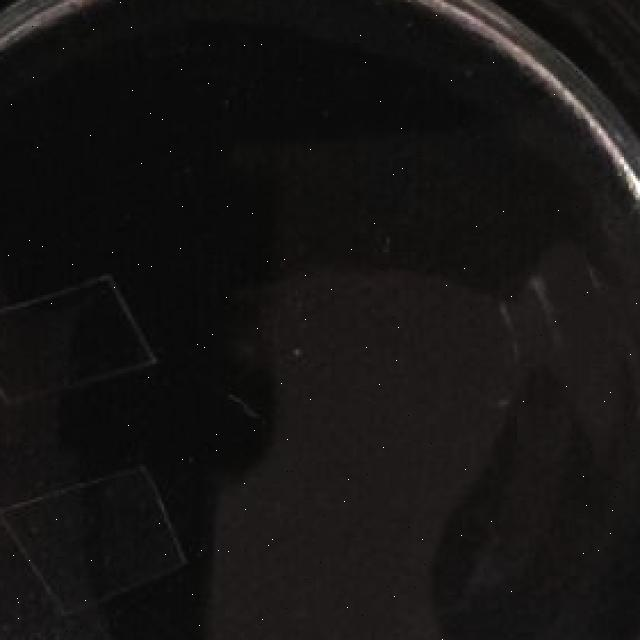Microplastic: (0, 456, 191, 618), (0, 276, 164, 409)
